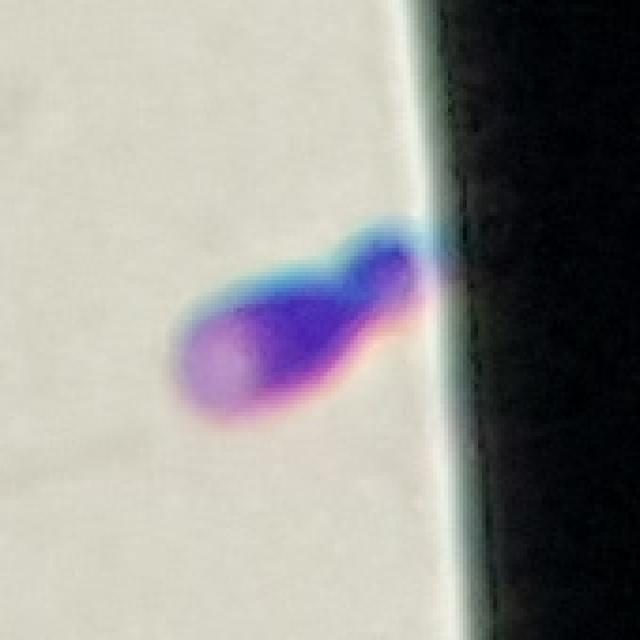abnormal sperm: (170, 212, 461, 423)
